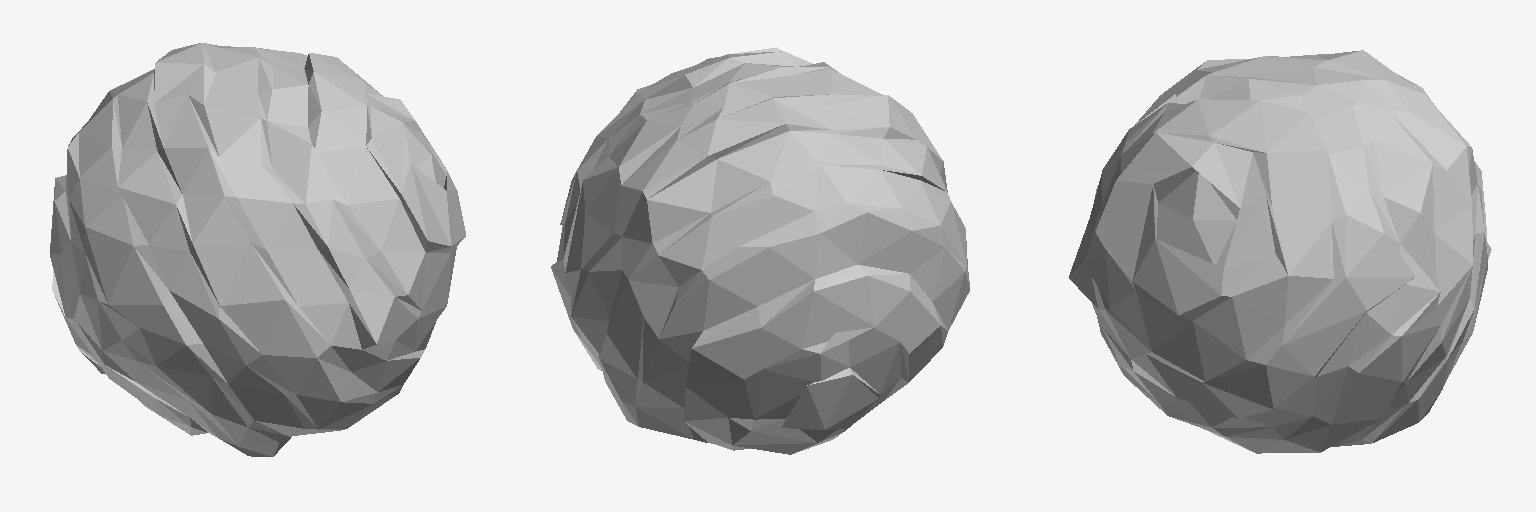
The model's file is jupiter.obj.
3 views of the same model, side by side, from view 1: azimuth 30°, elevation 25°; view 2: azimuth 150°, elevation 25°; view 3: azimuth 270°, elevation 25° (orthographic).
Visible parts, largest first — view 1: Jupiter; view 2: Jupiter; view 3: Jupiter.
Boxes of the visible parts, <box> form: Jupiter: <box>50,43,465,456</box>; Jupiter: <box>551,47,969,454</box>; Jupiter: <box>1069,50,1491,453</box>.
Size of the model in its own units: 1.99 by 1.95 by 2.06.